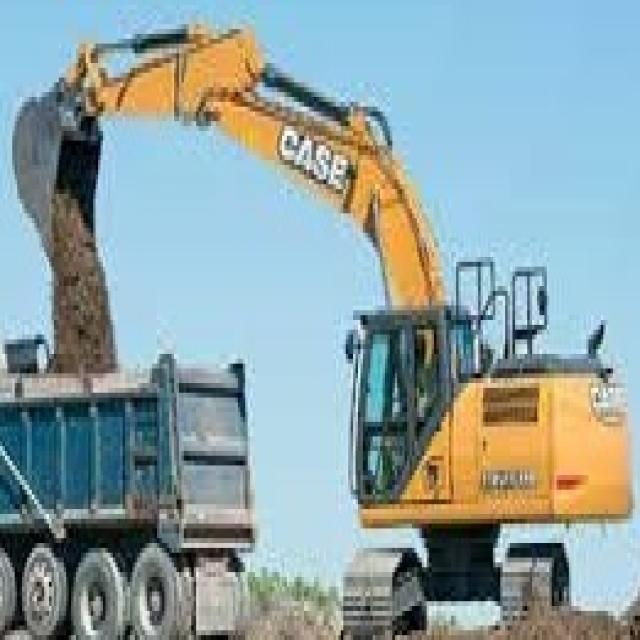excavator: (310, 262, 638, 576)
